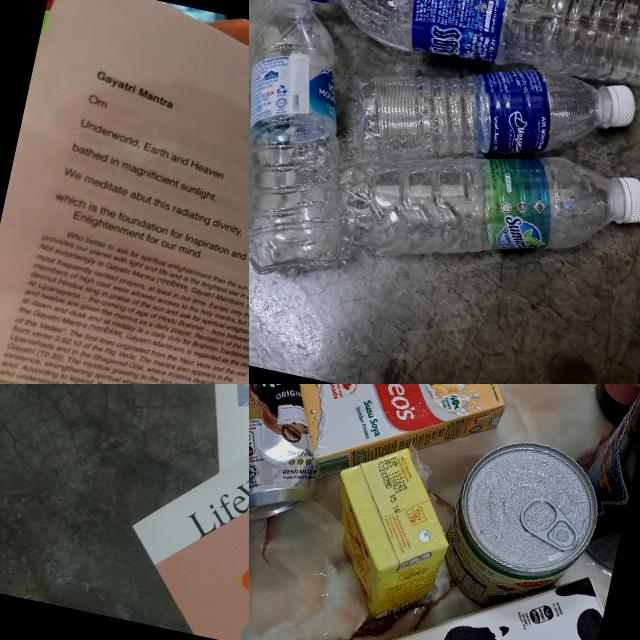aba de lata: (514, 492, 581, 556)
caixinha: (249, 496, 611, 640), (320, 435, 466, 627), (286, 384, 518, 503)
garrafa de vidro: (569, 384, 640, 580)
garrafa plástica: (324, 112, 630, 304), (342, 34, 614, 210), (249, 0, 382, 286), (321, 0, 640, 108)
lata: (438, 434, 608, 626), (249, 384, 353, 535)
papel: (0, 0, 249, 384), (112, 384, 249, 640)
tampa plástica: (595, 81, 640, 133), (600, 172, 640, 229), (266, 0, 317, 15)
